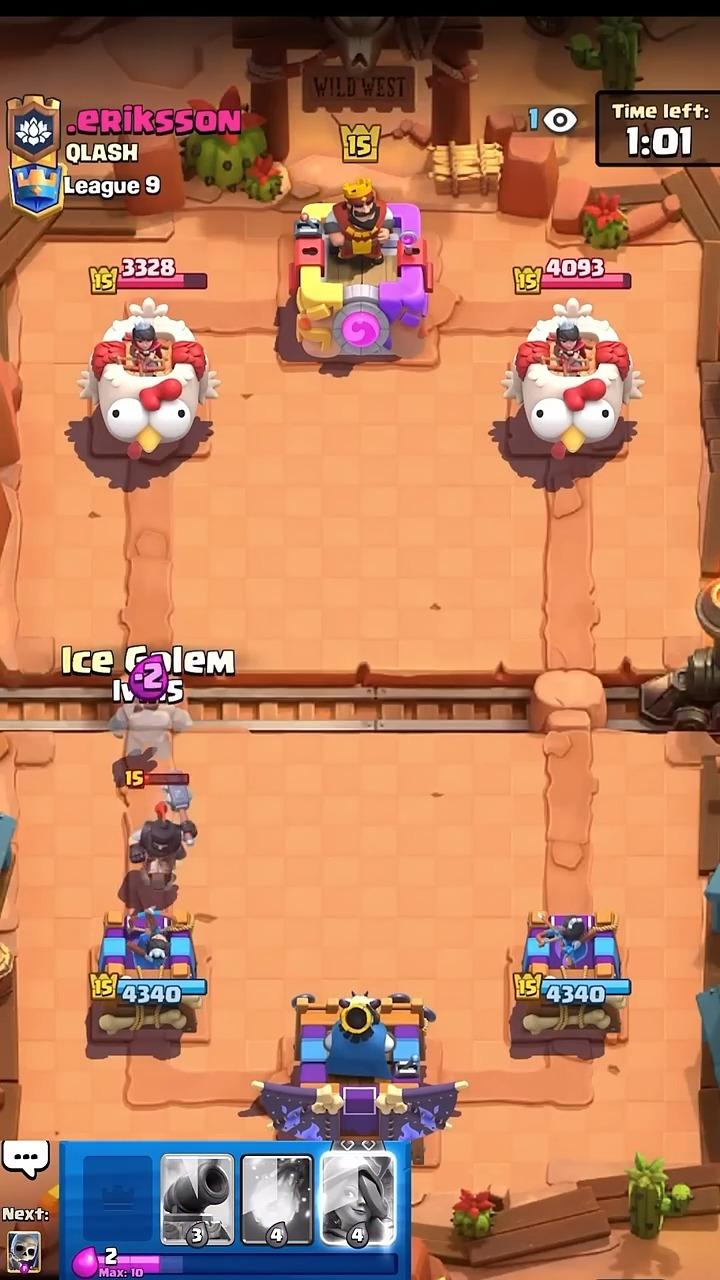dark prince: (128, 787, 197, 906)
